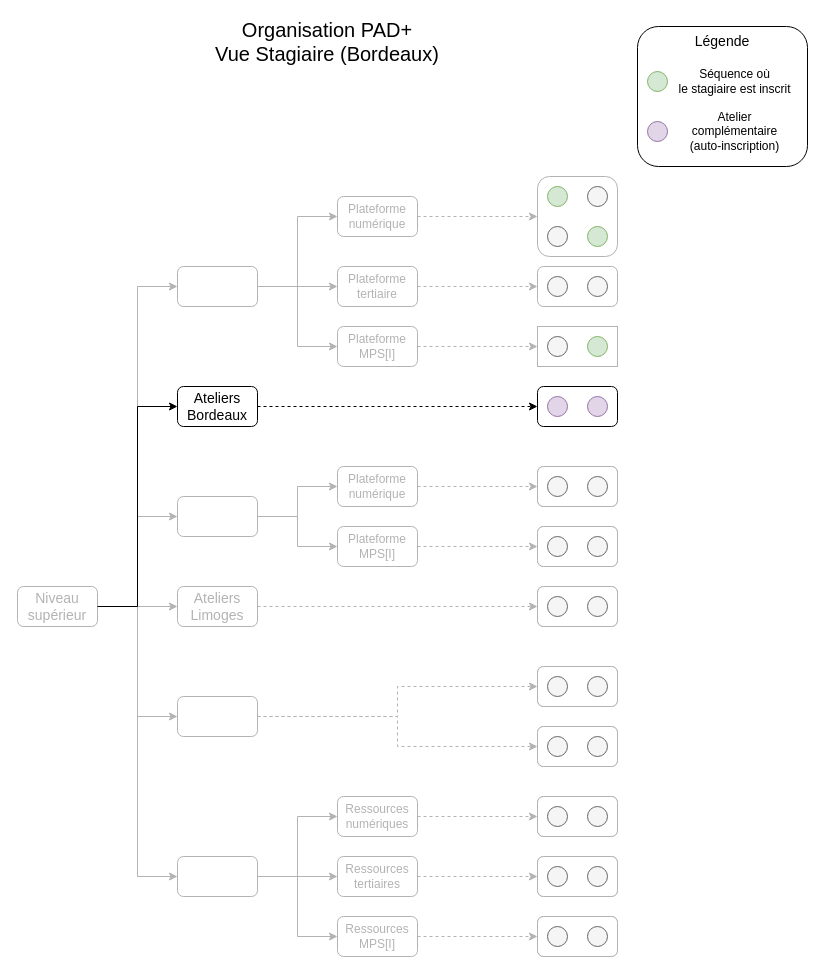
Image size: 825x974. Some labels were removed from this diagram. The shapes that lost their labels are listed below. From the top down, each one's centre as x and y in pixels, then its label:
At pixel 217 286: "Bordeaux".
At pixel 217 516: "Limoges".
At pixel 217 716: "Lyon".
At pixel 217 876: "Ressources pros".
